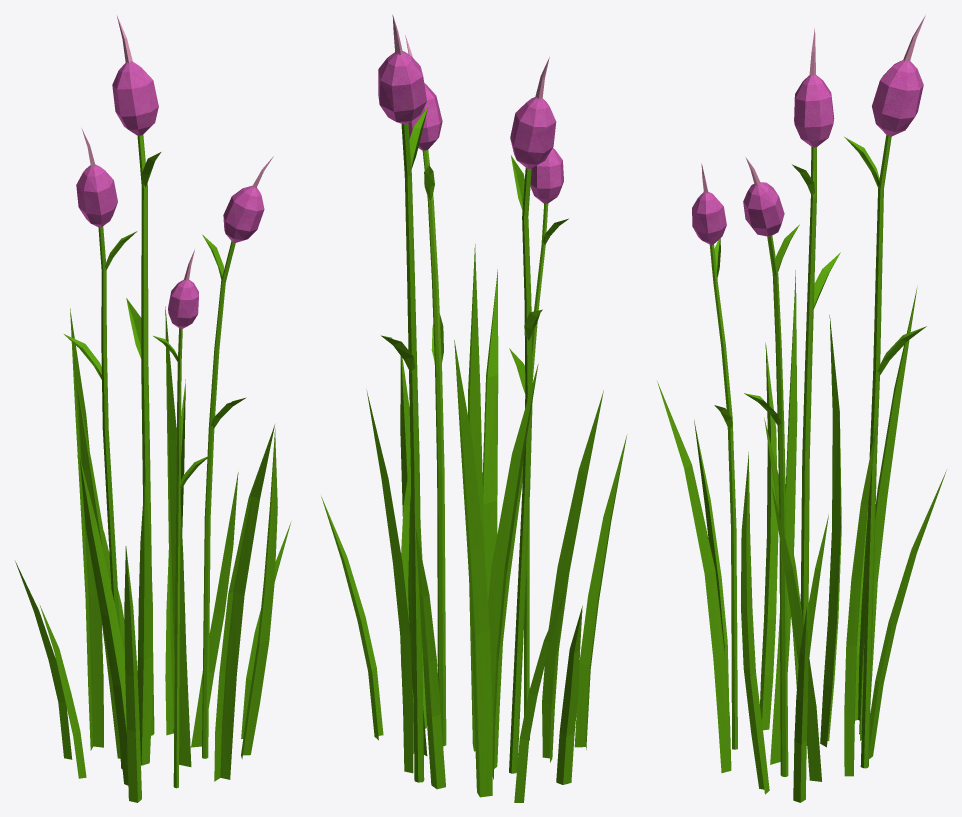
Rendered from PuffReed4_Pink.fbx.
3 renders of one model, left to right at view 1: azimuth 30°, elevation 25°; view 2: azimuth 150°, elevation 25°; view 3: azimuth 270°, elevation 25°, orthographic. The views are drawn at different scales.
Visible parts, largest first — view 1: Mesh; view 2: Mesh; view 3: Mesh.
Part boxes in pixels (bbox=[...]): Mesh: bbox=[15, 16, 290, 802]; Mesh: bbox=[321, 15, 627, 802]; Mesh: bbox=[657, 15, 946, 802].
Bounding box in the file's own units: 162 × 439 × 154.
